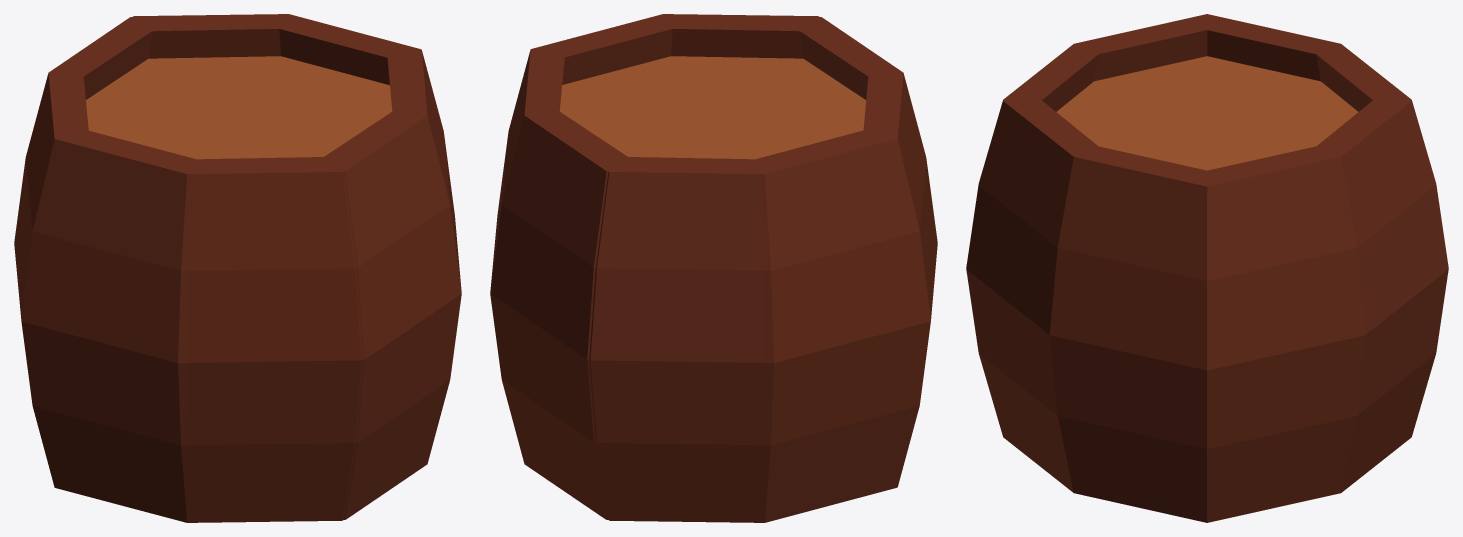
Rendered from Barrel.fbx.
The picture shows the model from 3 angles, left to right: view 1: azimuth 30°, elevation 25°; view 2: azimuth 150°, elevation 25°; view 3: azimuth 270°, elevation 25°; orthographic projection. The views are drawn at different scales.
Parts seen in each view (by area): view 1: Barrel; view 2: Barrel; view 3: Barrel.
Part boxes in pixels (x1,y1,x2,y2): Barrel: [14, 14, 461, 522]; Barrel: [490, 14, 937, 522]; Barrel: [966, 14, 1448, 522].
Bounding box in the file's own units: 1.59 × 1.22 × 1.59.
